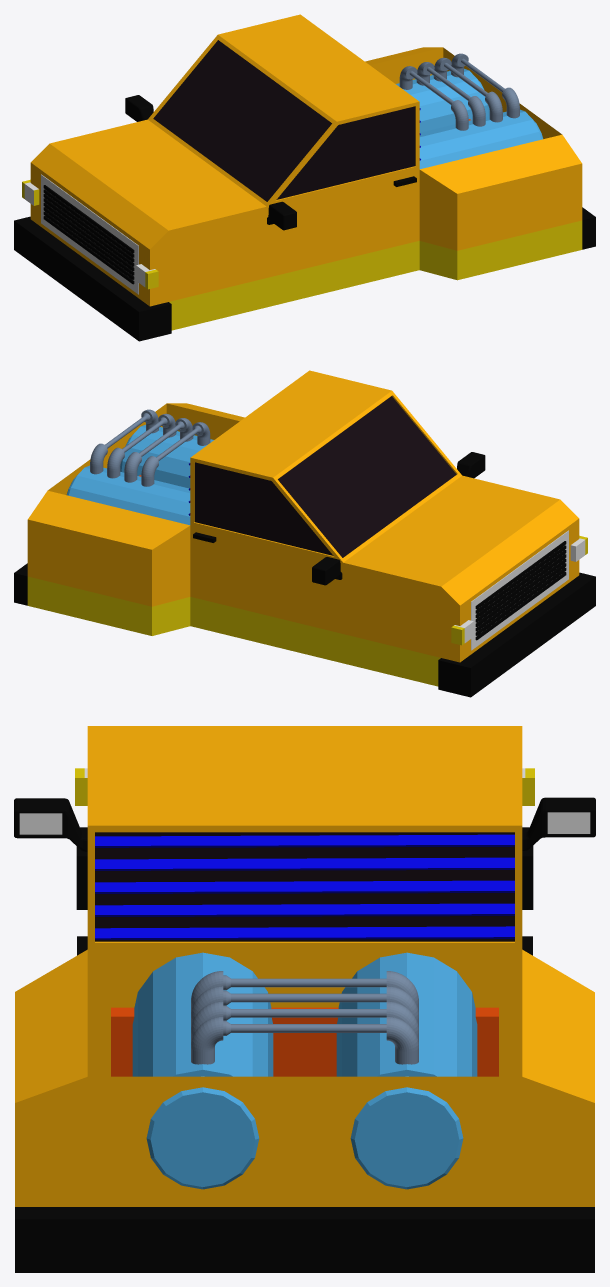
File: truck_body.fbx
3 views of the same model, one above another, from view 1: azimuth 30°, elevation 25°; view 2: azimuth 150°, elevation 25°; view 3: azimuth 270°, elevation 25° (orthographic). The views are drawn at different scales.
Parts seen in each view (by area): view 1: Truck Body, left cylinder, engine pipes, grill panel struts.001, right cylinder, grill plate.001, mirrors.001, headlights.003; view 2: Truck Body, right cylinder, engine pipes, grill panel struts.001, left cylinder, grill plate.001, mirrors.001, headlights.003; view 3: Truck Body, truck slats, right cylinder, left cylinder, engine pipes, tank supports, mirrors.001, headlights.003.
Part boxes in pixels (x1=…): Truck Body: x1=14, y1=14, x2=595, y2=341; left cylinder: x1=419, y1=109, x2=543, y2=169; engine pipes: x1=399, y1=53, x2=519, y2=130; grill panel struts.001: x1=43, y1=185, x2=134, y2=284; right cylinder: x1=396, y1=68, x2=489, y2=132; grill plate.001: x1=41, y1=174, x2=138, y2=294; mirrors.001: x1=125, y1=95, x2=296, y2=230; headlights.003: x1=22, y1=179, x2=158, y2=289; Truck Body: x1=14, y1=370, x2=595, y2=697; right cylinder: x1=66, y1=465, x2=190, y2=525; engine pipes: x1=90, y1=409, x2=210, y2=486; grill panel struts.001: x1=475, y1=541, x2=566, y2=640; left cylinder: x1=120, y1=424, x2=213, y2=488; grill plate.001: x1=471, y1=530, x2=568, y2=650; mirrors.001: x1=312, y1=452, x2=485, y2=585; headlights.003: x1=451, y1=535, x2=587, y2=645; Truck Body: x1=15, y1=726, x2=594, y2=1272; truck slats: x1=95, y1=834, x2=514, y2=939; right cylinder: x1=336, y1=952, x2=477, y2=1189; left cylinder: x1=132, y1=952, x2=273, y2=1189; engine pipes: x1=191, y1=971, x2=418, y2=1064; tank supports: x1=111, y1=1007, x2=498, y2=1076; mirrors.001: x1=14, y1=797, x2=595, y2=851; headlights.003: x1=75, y1=768, x2=534, y2=805.
Bounding box in the file's own units: 640 × 402 × 234.
